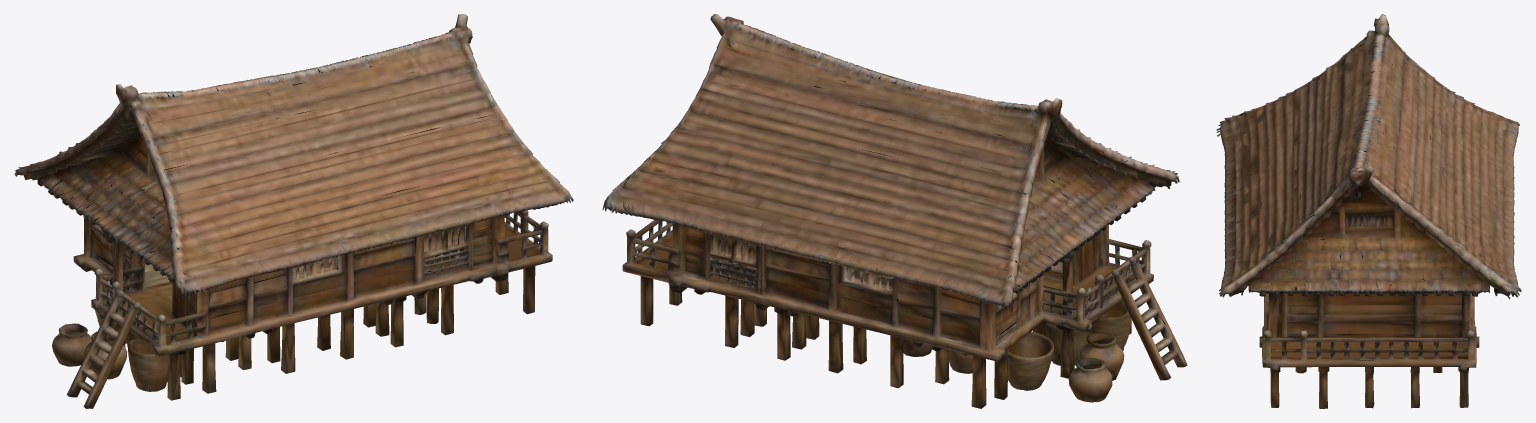
Rendered from gourd-prop-house-3d.glb.
3 views of the same model, side by side, from view 1: azimuth 30°, elevation 25°; view 2: azimuth 150°, elevation 25°; view 3: azimuth 270°, elevation 25° (orthographic). The views are drawn at different scales.
Parts seen in each view (by area): view 1: low; view 2: low; view 3: low.
Boxes of the visible parts, x1,y1,x2,y2 form: low: (14,14,573,408); low: (602,14,1187,408); low: (1216,14,1521,408).
Size of the model in its own units: 0.5822 by 0.3403 by 0.3859.
Materials: 1 (1 with a texture image).
